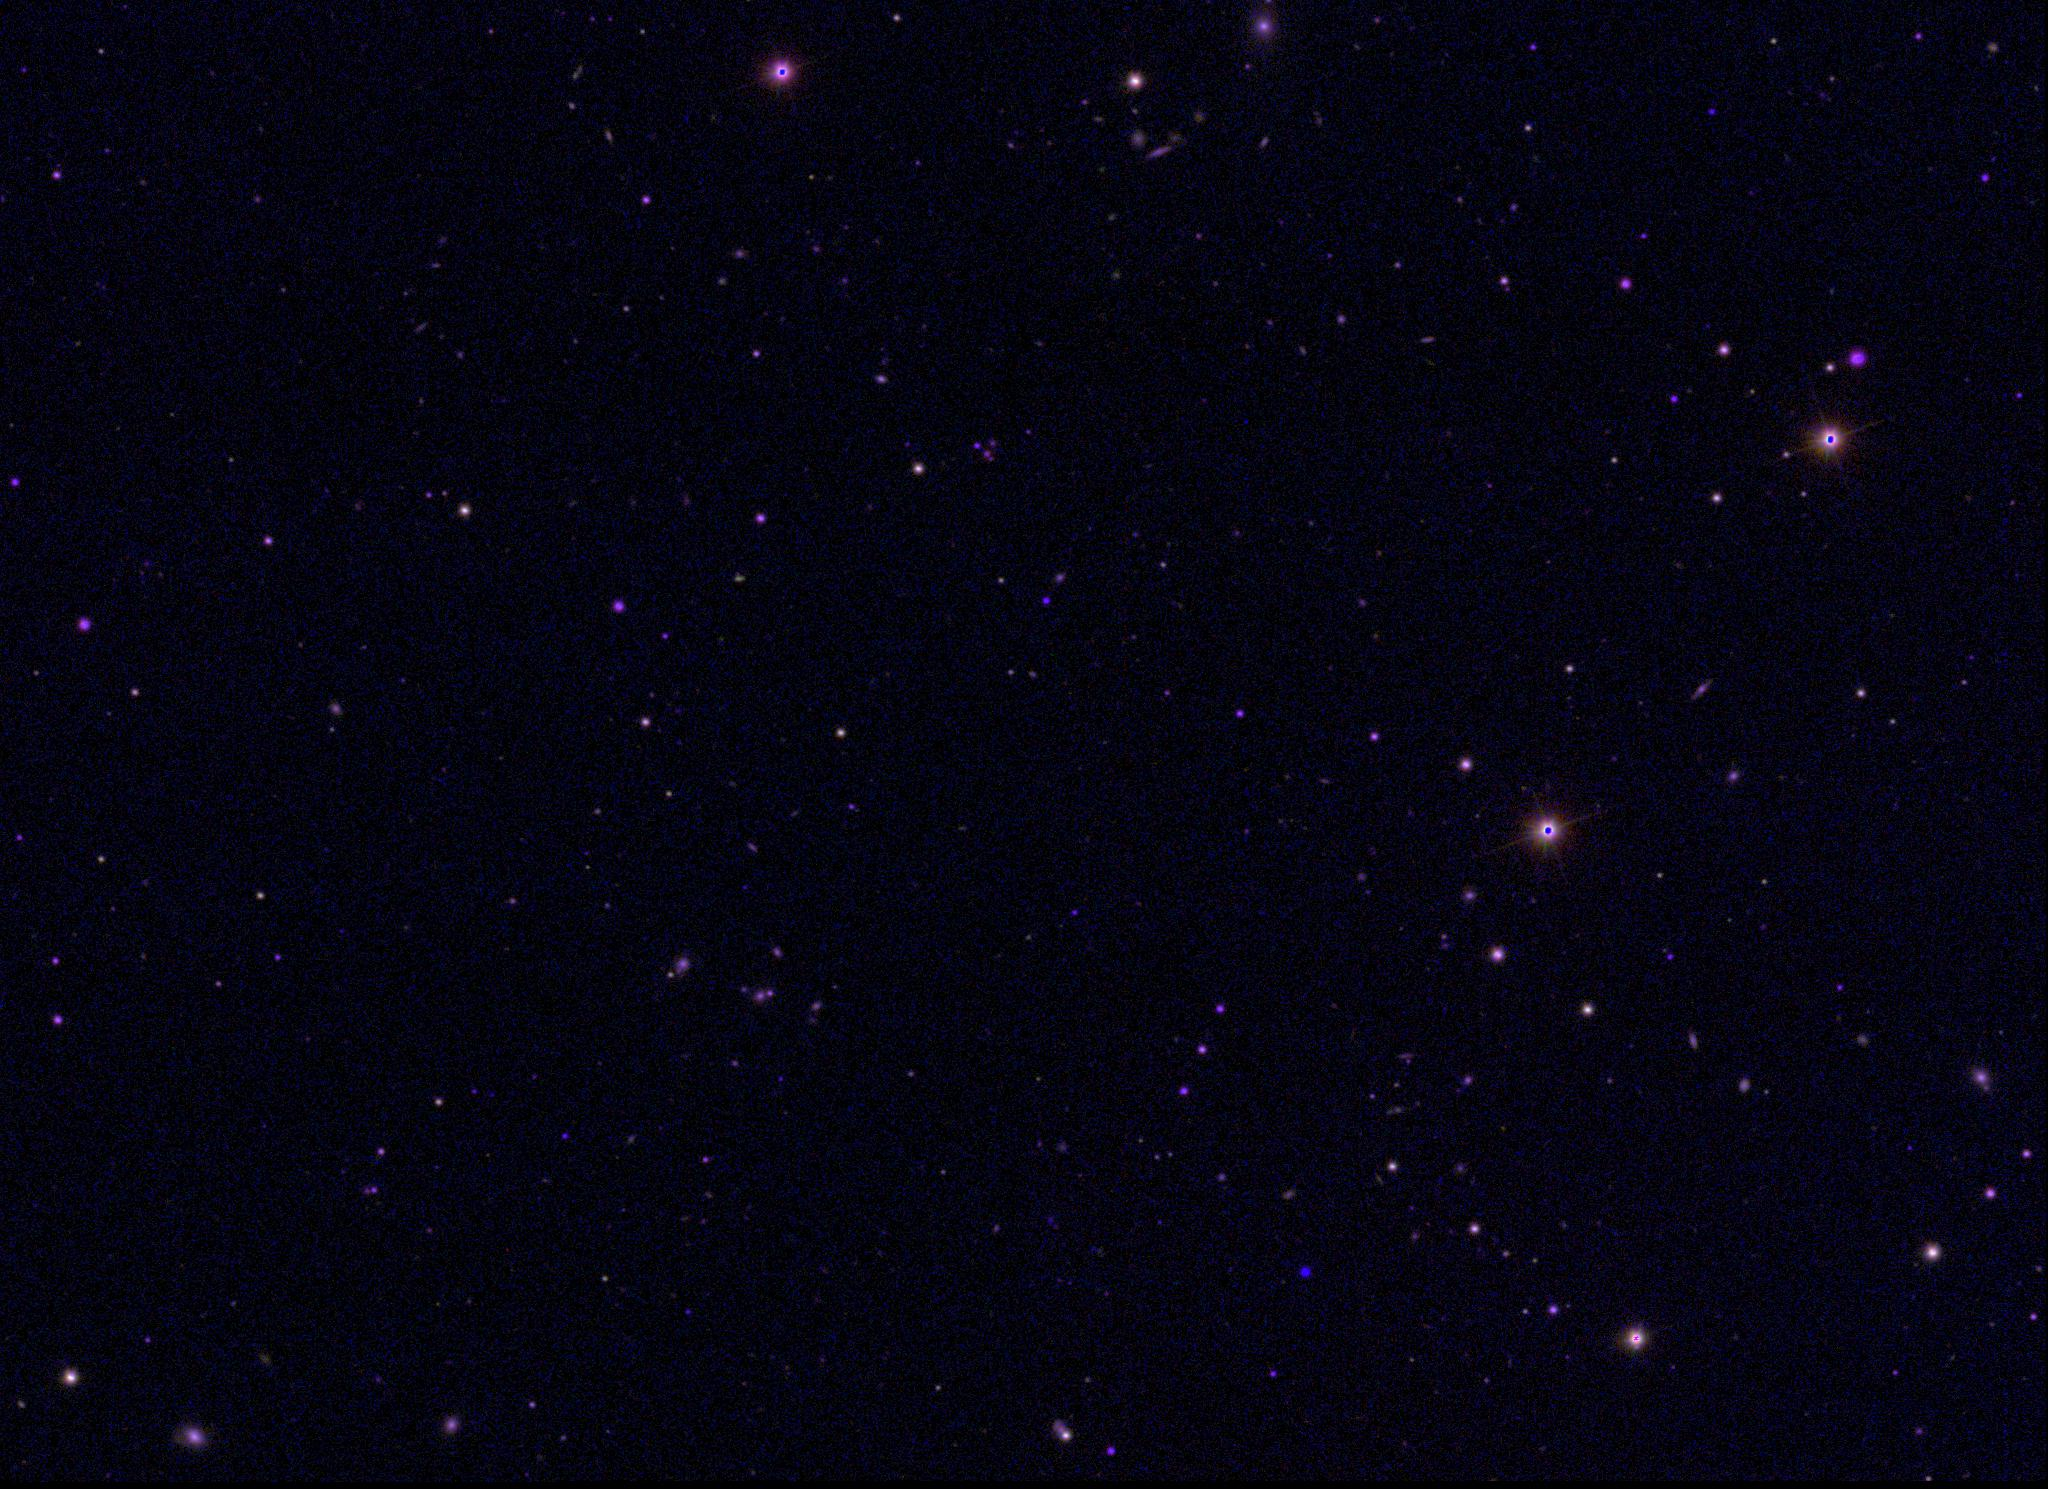L: (1297, 1262, 1310, 1276)
